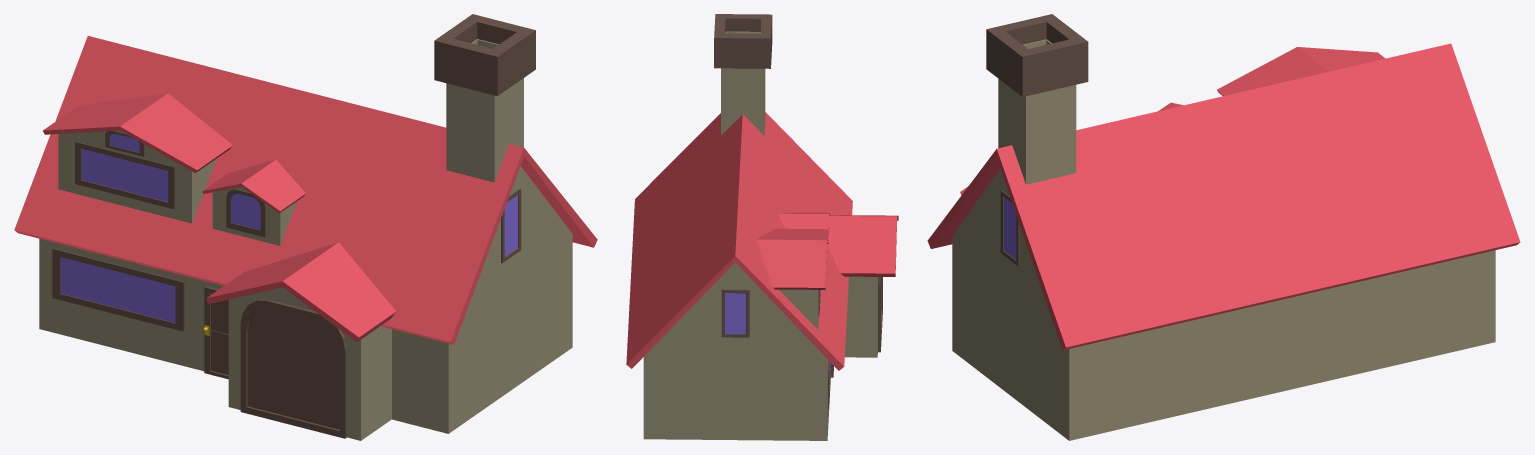
The model's file is CALLE5_CASA1_010.fbx.
The picture shows the model from 3 angles, left to right: view 1: azimuth 30°, elevation 25°; view 2: azimuth 150°, elevation 25°; view 3: azimuth 270°, elevation 25°; orthographic projection. The views are drawn at different scales.
Parts seen in each view (by area): view 1: CASA1.010; view 2: CASA1.010; view 3: CASA1.010.
Boxes of the visible parts, x1,y1,x2,y2 form: CASA1.010: (14, 14, 597, 440); CASA1.010: (626, 14, 898, 440); CASA1.010: (927, 14, 1520, 440).
Bounding box in the file's own units: 942 × 734 × 1114.
